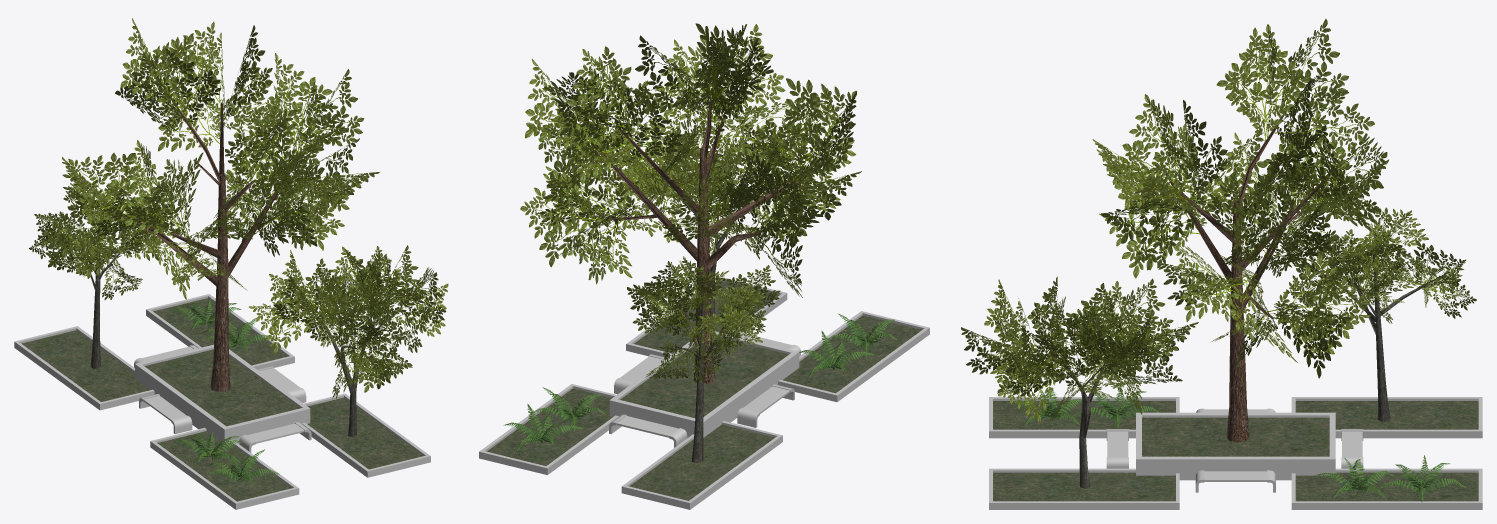
Rendered from Garden-03.fbx.
The picture shows the model from 3 angles, left to right: view 1: azimuth 30°, elevation 25°; view 2: azimuth 150°, elevation 25°; view 3: azimuth 270°, elevation 25°; orthographic projection. The views are drawn at different scales.
Visible parts, largest first — view 1: Garden-03, Garden-03-Grass; view 2: Garden-03, Garden-03-Grass; view 3: Garden-03, Garden-03-Grass.
Boxes of the visible parts, x1=… form: Garden-03: x1=14, y1=18, x2=448, y2=509; Garden-03-Grass: x1=21, y1=298, x2=423, y2=501; Garden-03: x1=479, y1=23, x2=929, y2=509; Garden-03-Grass: x1=487, y1=281, x2=921, y2=500; Garden-03: x1=961, y1=19, x2=1482, y2=509; Garden-03-Grass: x1=993, y1=401, x2=1478, y2=501.
Size of what is drawn, in the model's own units: 12.8 by 15.42 by 17.63.
